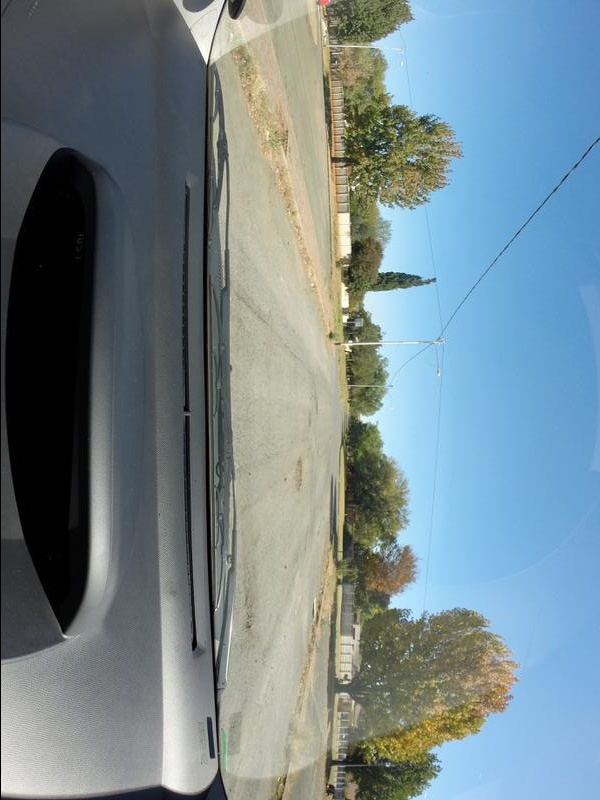pothole: (242, 587, 256, 633), (293, 454, 304, 502), (311, 398, 318, 418), (307, 411, 312, 433)
